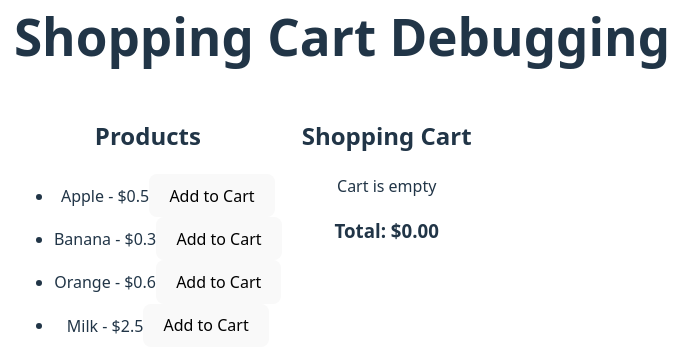
Scenario: ShoppingCartApp › increments quantity if item exists
The image size is (684, 351).
Add Apple twice
Click the button "Add to Cart" in the row of "Apple" at (212, 196), box [149, 174, 275, 217]
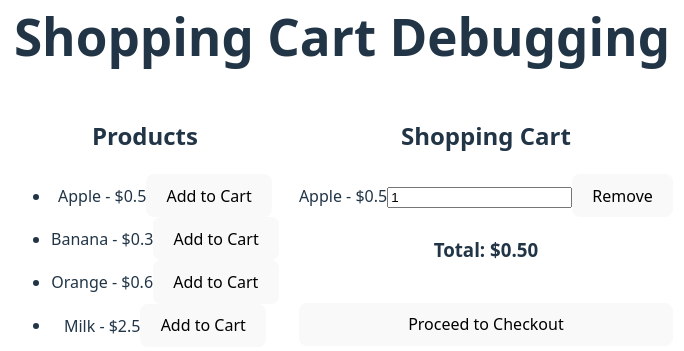
Click the 1st button "Add to Cart" at (209, 196), box [146, 174, 272, 217]
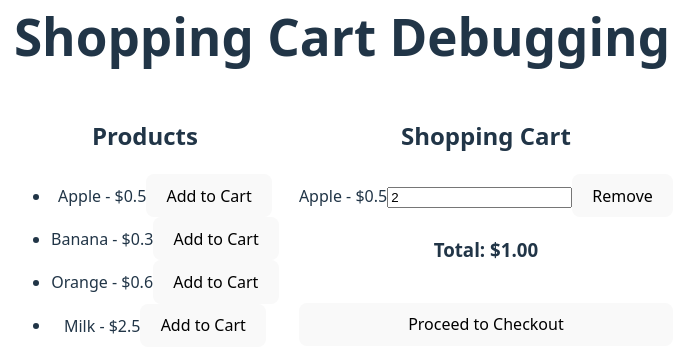
Now the text "Apple - $0.5" is shown once, box [299, 185, 387, 207]
Now the number field holds "2", box [387, 187, 572, 208]
